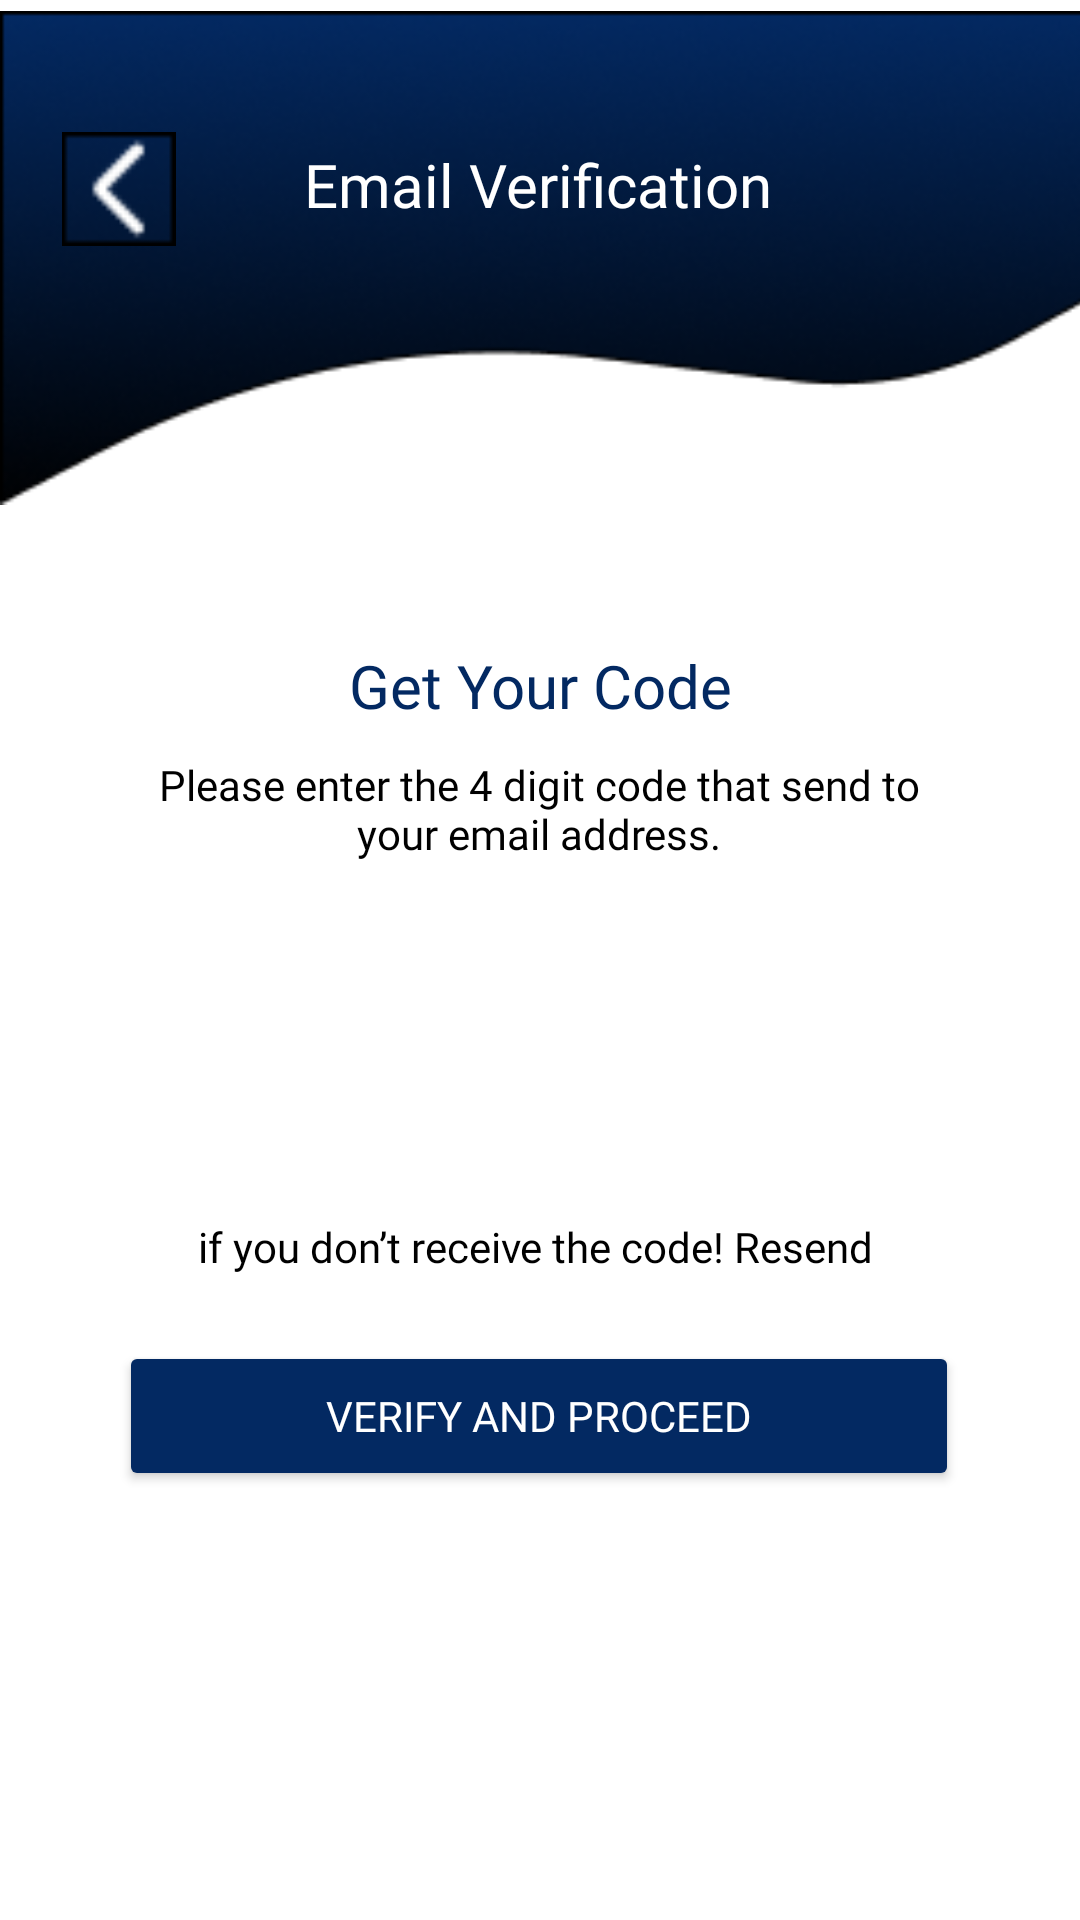

Icon click points for this 1080x1920 phone screenshot, format point (x, y):
symbols arrow back rounded: point (118, 189)
